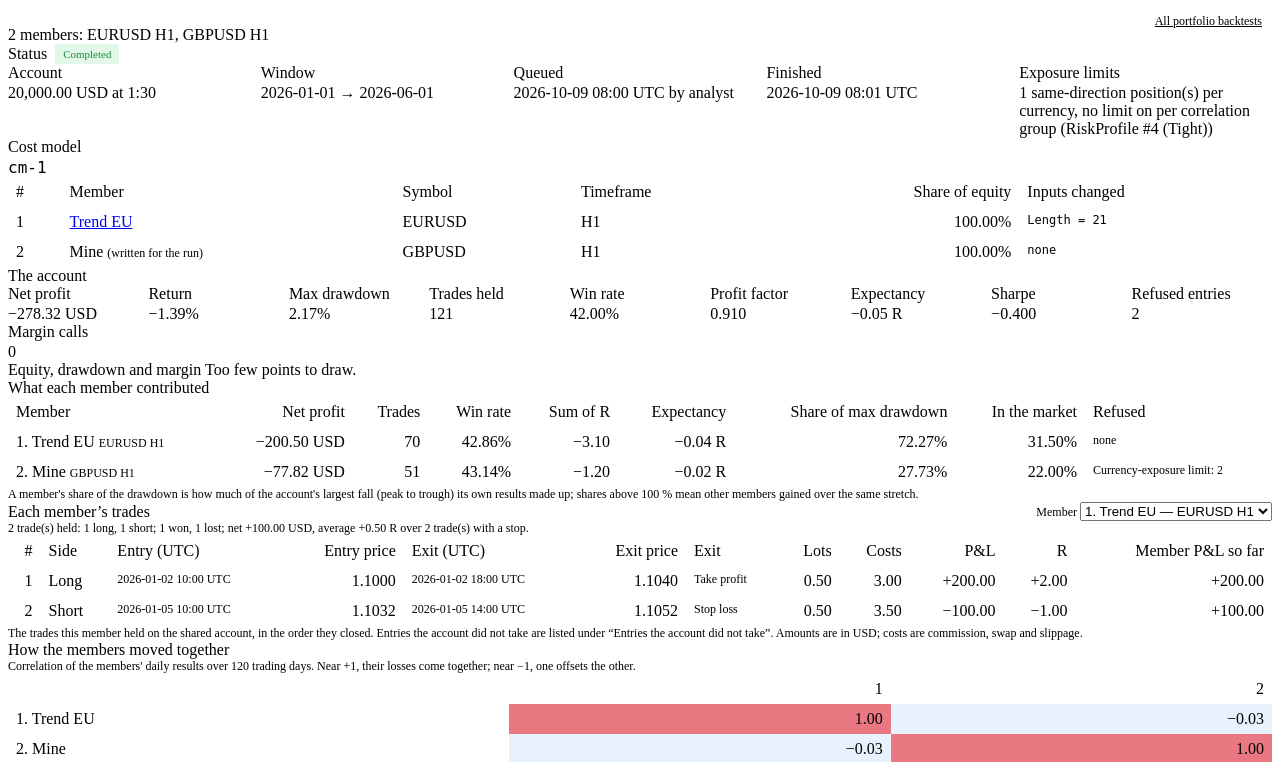
it: PortfolioBacktestDetailPageComponent (BT-I12) › lists each member’s own trades and switches between members
The image size is (1280, 762).
Select "2. Mine — GBPUSD H1" in the dropdown with test id "pf-trades-member": (1176, 512) [1080,502,1272,521]
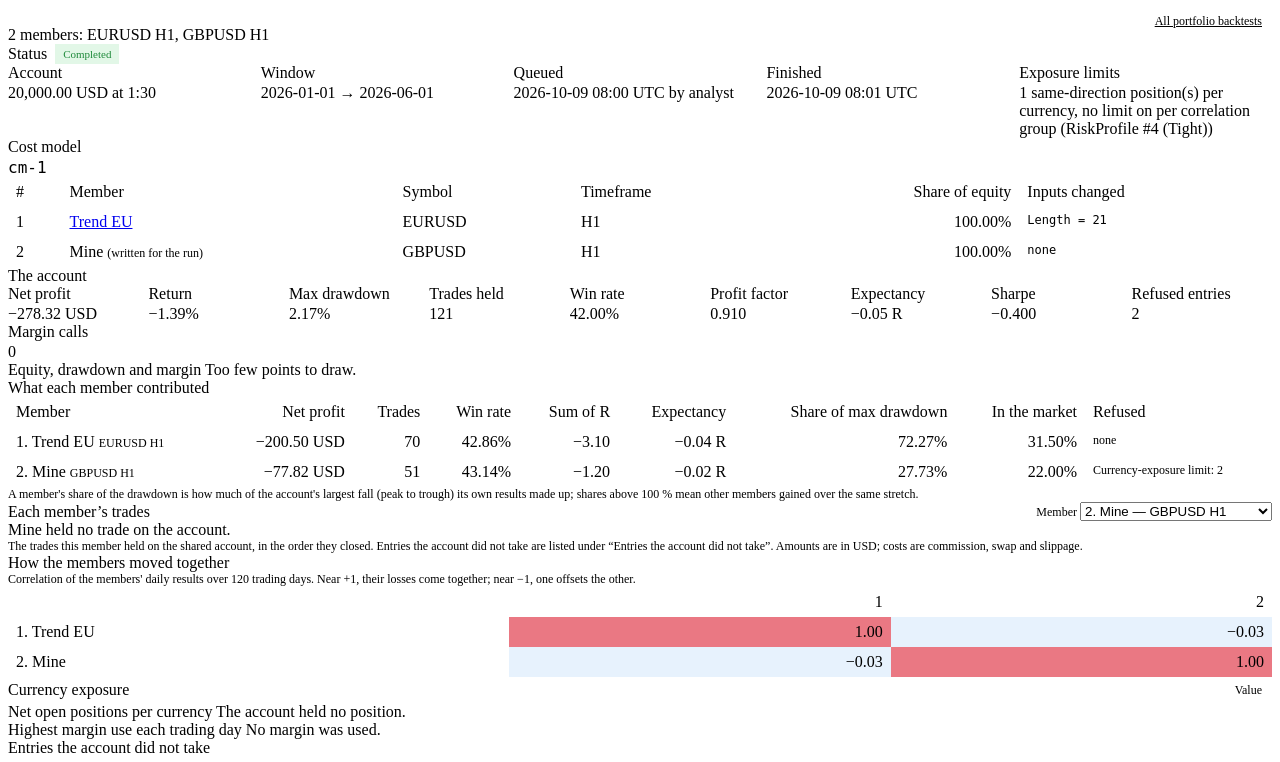
Expected: the table with test id "pf-trades" is gone
Expected: the text with test id "pf-trades-empty" reads "Mine held no trade on the account.", [8,521,231,538]
